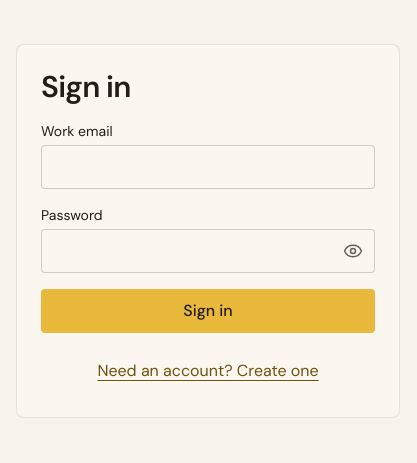
Test: SignInPage › a request that throws (offline) clears the button and names the connection
This screenshot has width=417, height=463.
Type "van@example.com" into the field labelled "Work email".
click(208, 167); type("van@example.com")  # box [41,145,375,189]
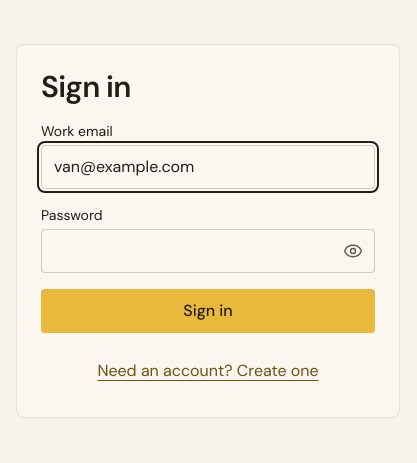
Type "correct-horse" into the password field labelled "Password".
click(208, 251); type("correct-horse")  # box [41,229,375,273]
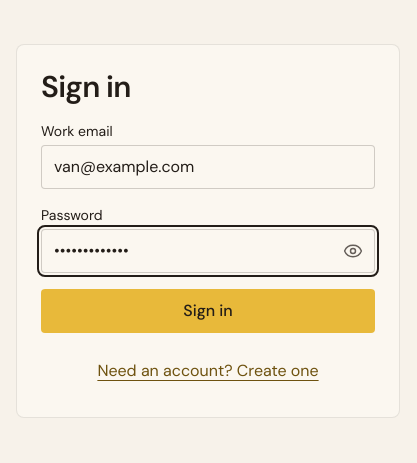
Click the button "Sign in".
click(208, 311)  # box [41,289,375,333]
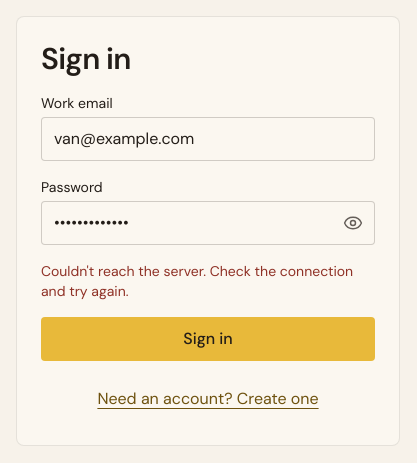
Expected: the button "Sign in" is enabled, [41,317,375,361]
Expected: the message reads "Couldn't reach the server. Check the connection and try again.", [41,262,353,300]
